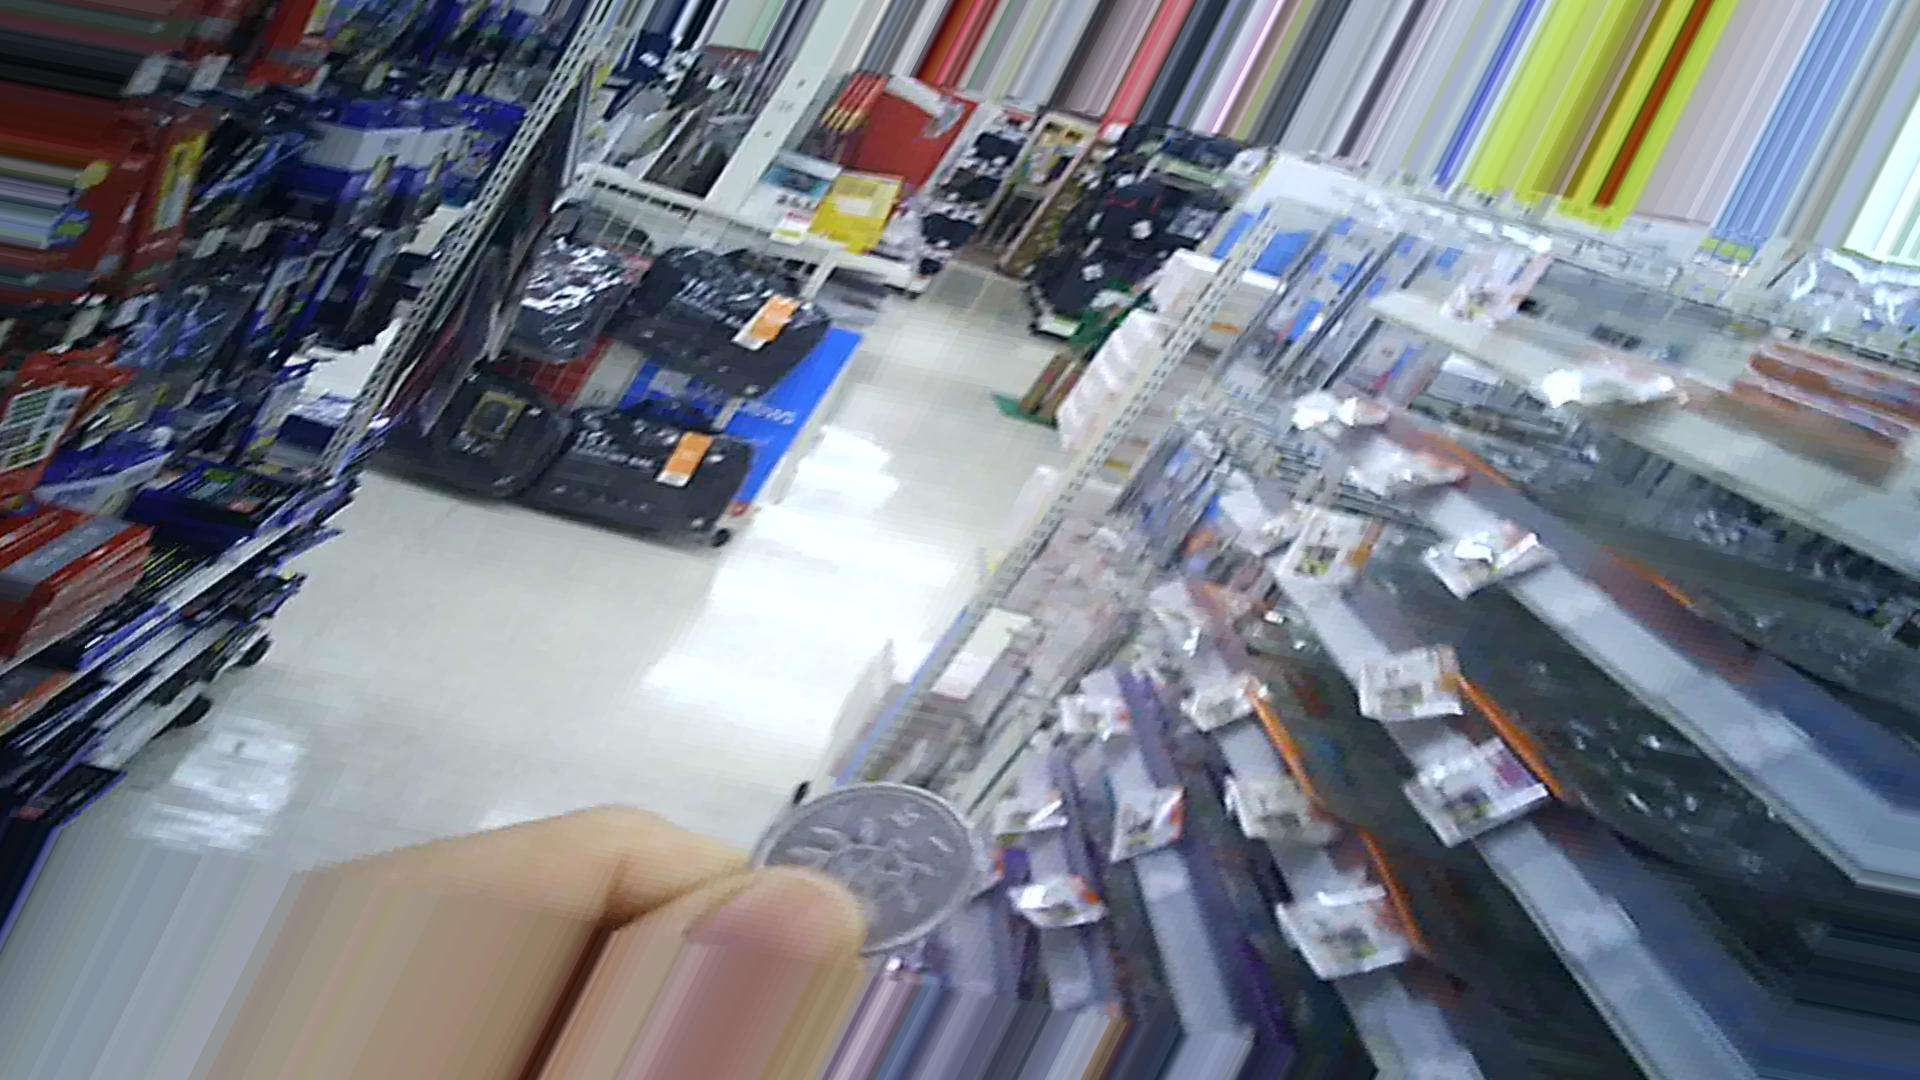1 Yen: (756, 773, 969, 971)
